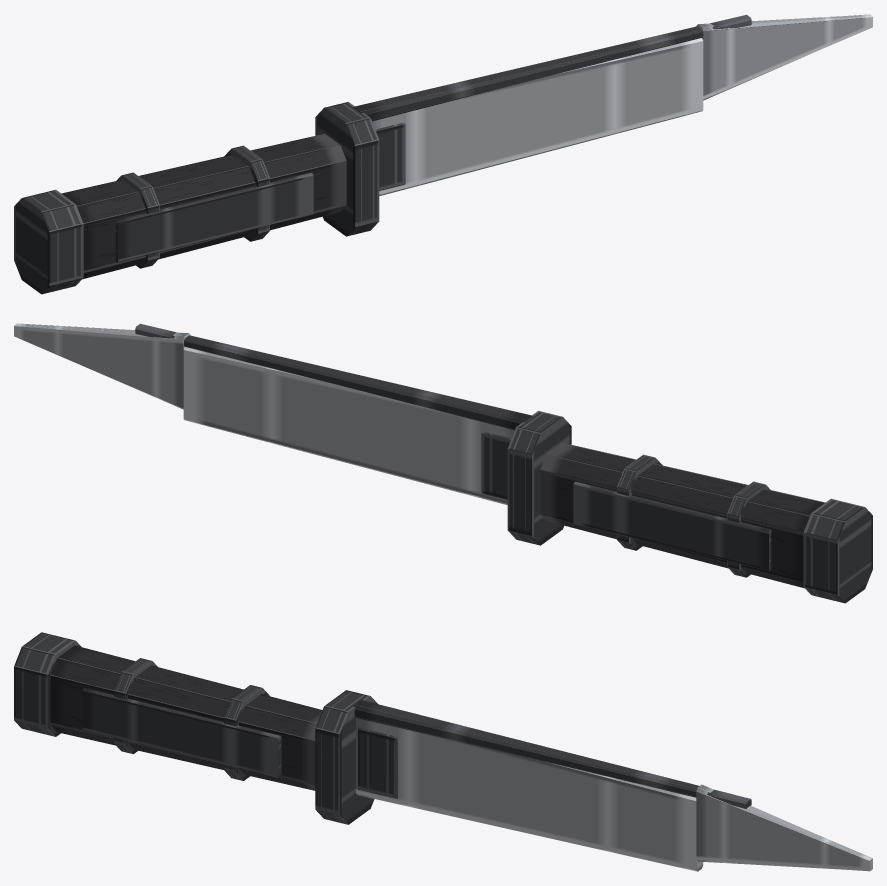
The model's file is Knife_1P.glb.
3 views of the same model, one above another, from view 1: azimuth 30°, elevation 25°; view 2: azimuth 150°, elevation 25°; view 3: azimuth 330°, elevation 25° (orthographic).
Visible parts, largest first — view 1: Knife_1P; view 2: Knife_1P; view 3: Knife_1P.
Boxes of the visible parts, x1,y1,x2,y2 form: Knife_1P: (14, 14, 872, 294); Knife_1P: (14, 323, 872, 603); Knife_1P: (14, 632, 872, 871).
Size of the model in its own units: 0.343 by 0.0445 by 0.028.
Materials: 1 (1 with a texture image).
